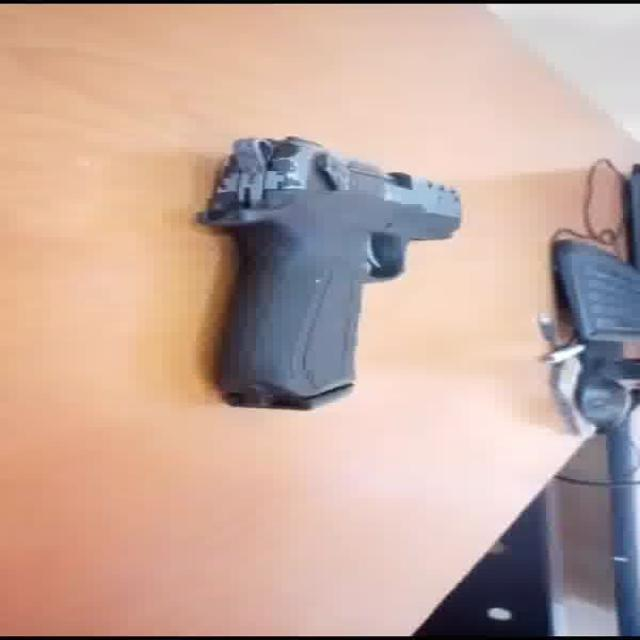weapon: (195, 133, 463, 410)
